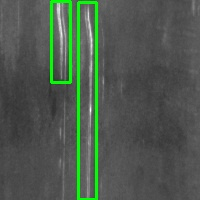scratches: (78, 2, 96, 199), (51, 1, 70, 82)
